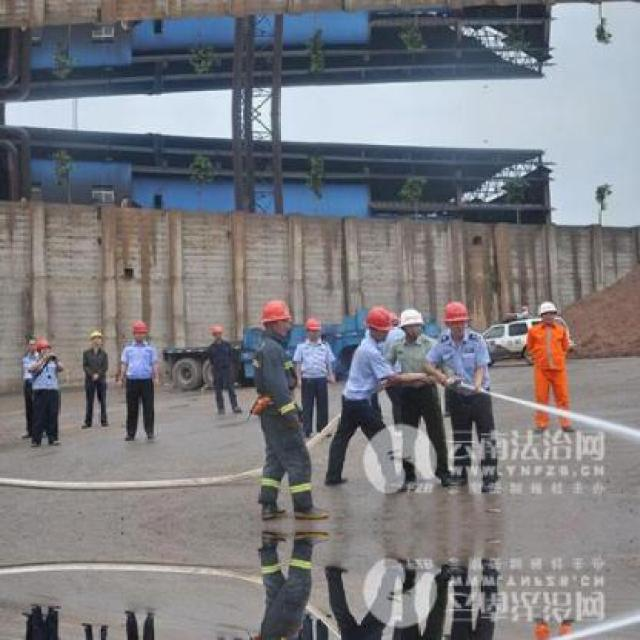helmet: (438, 297, 469, 334), (362, 305, 392, 341), (396, 307, 426, 342), (262, 297, 289, 334), (537, 296, 558, 324), (128, 318, 149, 341), (86, 326, 106, 348), (306, 315, 320, 340), (38, 336, 52, 356), (212, 322, 225, 340)
